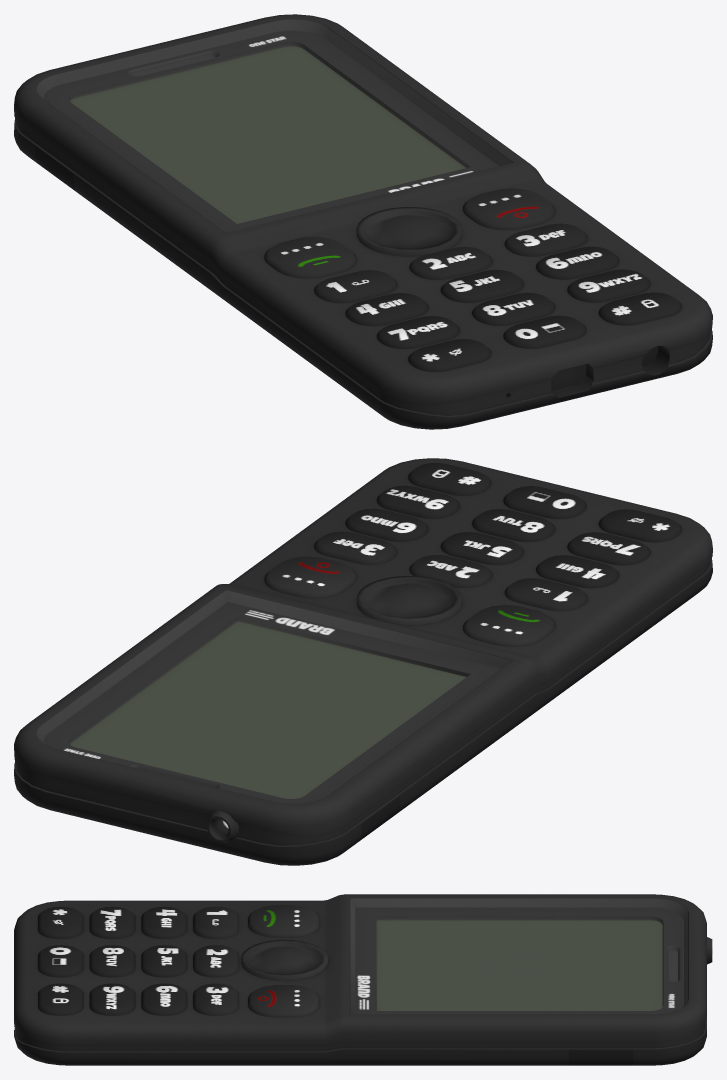
File: phone_low.glb
3 views of the same model, one above another, from view 1: azimuth 30°, elevation 25°; view 2: azimuth 150°, elevation 25°; view 3: azimuth 270°, elevation 25° (orthographic). The views are drawn at different scales.
Visible parts, largest first — view 1: phone_low, buttonmiddle_low, buttonhaut001_low, buttonhaut_low, button0_low, button9_low, button6_low, buttondiez_low, button3_low, button1_low, button2_low, button5_low (+4 smaller); view 2: phone_low, buttonmiddle_low, buttonhaut_low, buttonhaut001_low, button7_low, button3_low, buttonetoile_low, button6_low, button4_low, buttondiez_low, button0_low, button1_low (+4 smaller); view 3: phone_low, buttonmiddle_low, buttonhaut_low, buttonhaut001_low, button9_low, button6_low, button8_low, button5_low, button4_low, button7_low, button0_low, button2_low (+4 smaller).
Part boxes in pixels (x1=…): phone_low: x1=14, y1=14, x2=712, y2=429; buttonmiddle_low: x1=356, y1=207, x2=462, y2=256; buttonhaut001_low: x1=462, y1=188, x2=555, y2=229; buttonhaut_low: x1=264, y1=236, x2=356, y2=278; button0_low: x1=503, y1=315, x2=586, y2=348; button9_low: x1=567, y1=269, x2=650, y2=302; button6_low: x1=536, y1=246, x2=619, y2=279; buttondiez_low: x1=598, y1=292, x2=681, y2=325; button3_low: x1=504, y1=223, x2=587, y2=256; button1_low: x1=314, y1=270, x2=397, y2=302; button2_low: x1=409, y1=246, x2=492, y2=279; button5_low: x1=440, y1=269, x2=523, y2=302; phone_low: x1=14, y1=458, x2=712, y2=865; buttonmiddle_low: x1=356, y1=576, x2=462, y2=625; buttonhaut_low: x1=463, y1=605, x2=555, y2=646; buttonhaut001_low: x1=264, y1=556, x2=356, y2=597; button7_low: x1=567, y1=532, x2=650, y2=565; button3_low: x1=314, y1=531, x2=397, y2=564; buttonetoile_low: x1=598, y1=509, x2=681, y2=542; button6_low: x1=345, y1=508, x2=428, y2=541; button4_low: x1=536, y1=555, x2=619, y2=588; buttondiez_low: x1=408, y1=462, x2=491, y2=495; button0_low: x1=503, y1=486, x2=586, y2=518; button1_low: x1=504, y1=578, x2=587, y2=611; phone_low: x1=14, y1=894, x2=712, y2=1065; buttonmiddle_low: x1=241, y1=939, x2=328, y2=980; buttonhaut_low: x1=248, y1=905, x2=319, y2=937; buttonhaut001_low: x1=248, y1=985, x2=319, y2=1017; button9_low: x1=89, y1=983, x2=135, y2=1015; button6_low: x1=141, y1=983, x2=187, y2=1015; button8_low: x1=89, y1=945, x2=135, y2=977; button5_low: x1=141, y1=945, x2=187, y2=977; button4_low: x1=141, y1=906, x2=187, y2=938; button7_low: x1=89, y1=906, x2=135, y2=938; button0_low: x1=38, y1=945, x2=83, y2=977; button2_low: x1=193, y1=945, x2=238, y2=977.
Bounding box in the file's own units: 0.4125 × 0.0843 × 0.9271.
2 materials, 1 textured.
